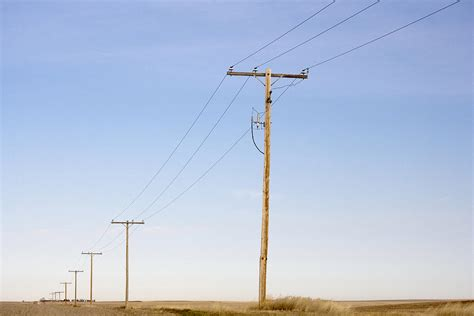pole: (219, 55, 316, 307), (104, 211, 153, 306), (77, 243, 109, 301), (56, 269, 85, 300)
